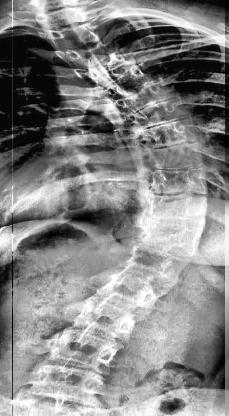Vertebrae: (44, 328, 121, 370), (26, 360, 106, 400), (99, 270, 169, 306), (72, 297, 142, 333), (125, 240, 191, 274), (136, 214, 208, 245), (143, 189, 209, 221), (146, 165, 210, 196), (134, 121, 196, 149), (142, 142, 204, 168), (123, 102, 185, 126), (79, 55, 135, 81), (114, 85, 168, 111), (102, 69, 152, 97), (47, 24, 101, 48), (34, 9, 88, 29), (60, 40, 109, 62)
